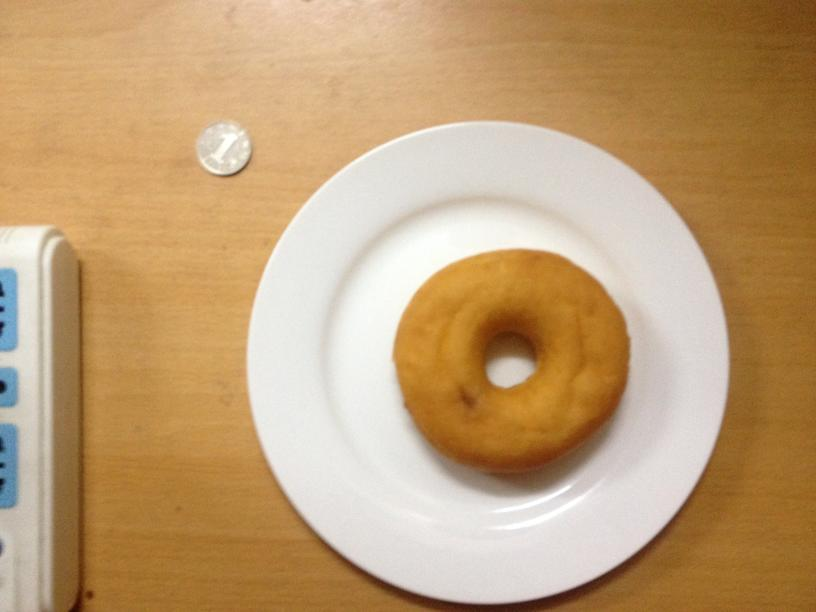coin: (196, 121, 252, 176)
doughnut: (398, 246, 631, 474)
